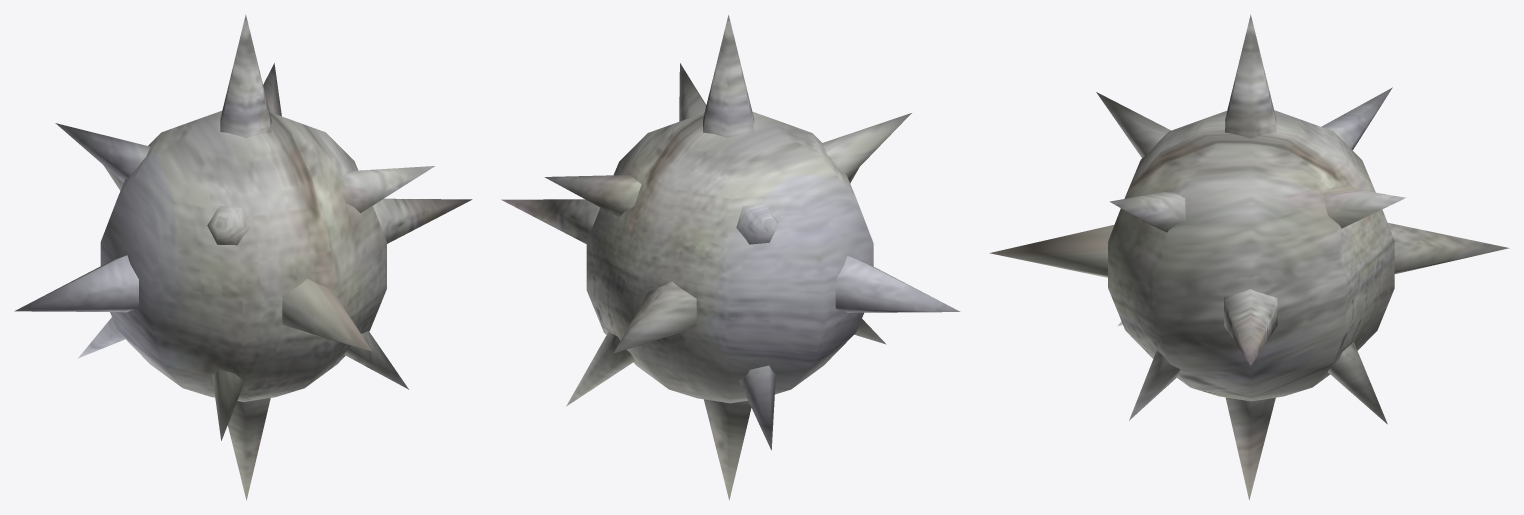
Rendered from mine.fbx.
The picture shows the model from 3 angles, left to right: view 1: azimuth 30°, elevation 25°; view 2: azimuth 150°, elevation 25°; view 3: azimuth 270°, elevation 25°; orthographic projection.
Parts seen in each view (by area): view 1: mine; view 2: mine; view 3: mine.
Part boxes in pixels (box(x1,y1,x2,y2)): mine: box(14, 14, 472, 500); mine: box(501, 15, 960, 500); mine: box(989, 14, 1509, 500).
Bounding box in the file's own units: 5.48 × 5.55 × 5.38.
1 material, 1 textured.
